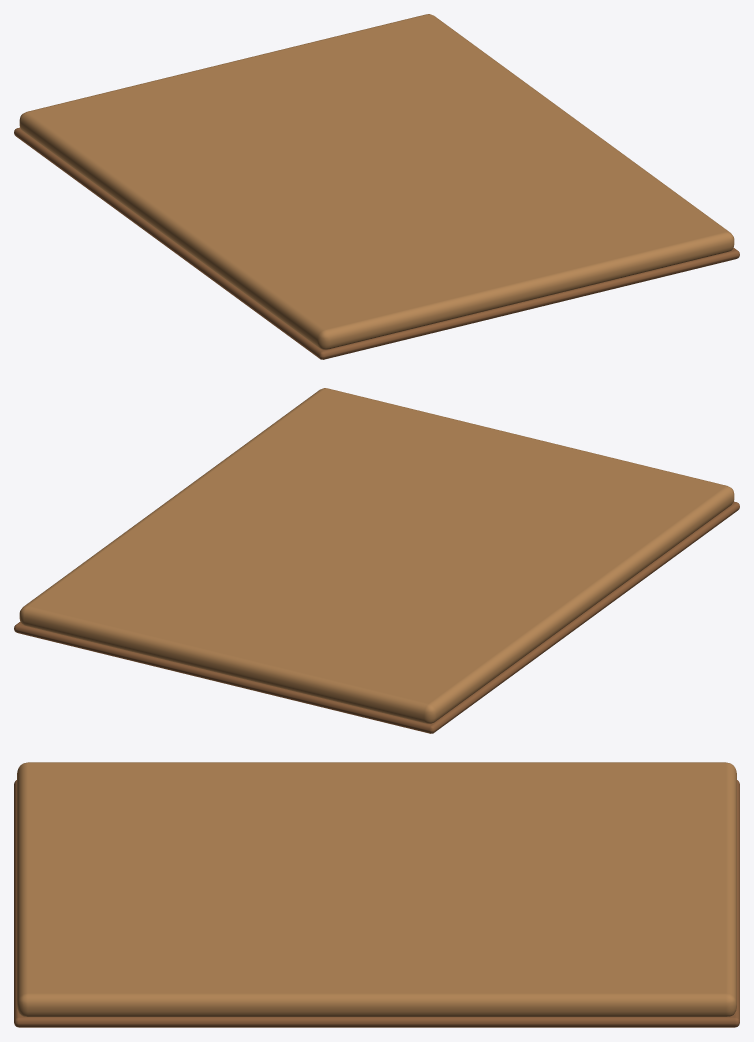
The model's file is frame.glb.
3 renders of one model, top to bottom at view 1: azimuth 30°, elevation 25°; view 2: azimuth 150°, elevation 25°; view 3: azimuth 270°, elevation 25°, orthographic. The views are drawn at different scales.
Parts seen in each view (by area): view 1: Cube; view 2: Cube; view 3: Cube.
Boxes of the visible parts, bbox=[...] form: Cube: bbox=[14, 14, 739, 359]; Cube: bbox=[14, 388, 739, 733]; Cube: bbox=[14, 762, 739, 1027].
Size of the model in its own units: 7.4 by 0.43 by 9.4.
